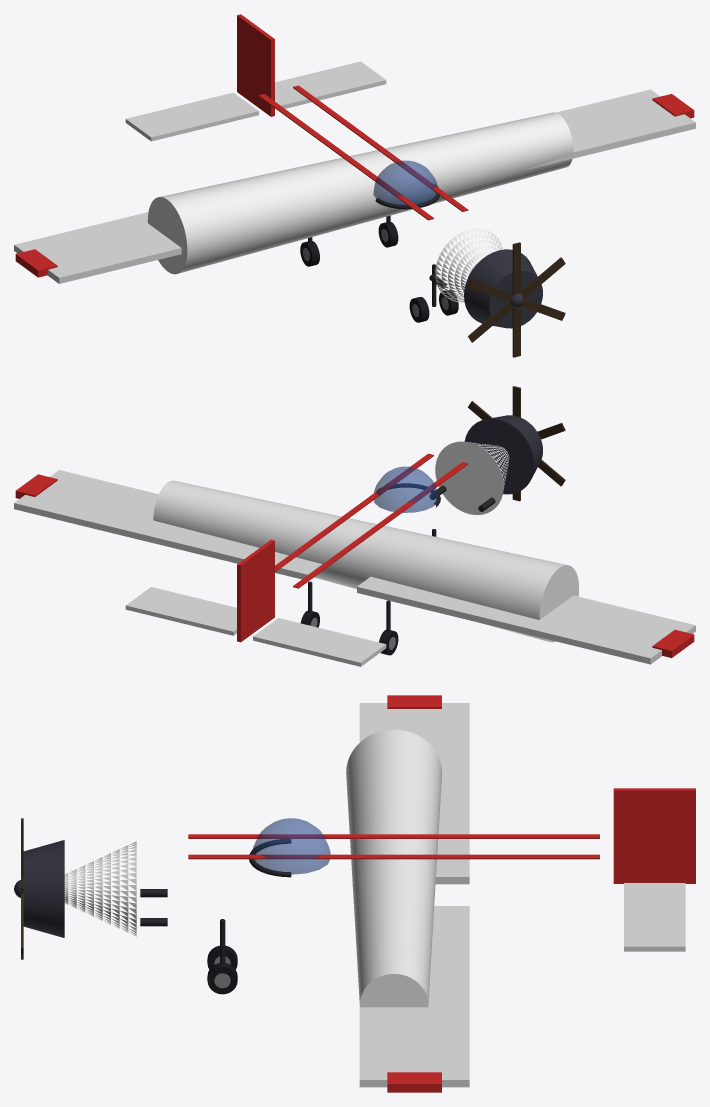
The model's file is vehicle_plane.glb.
3 views of the same model, one above another, from view 1: azimuth 30°, elevation 25°; view 2: azimuth 150°, elevation 25°; view 3: azimuth 270°, elevation 25° (orthographic). The views are drawn at different scales.
Visible parts, largest first — view 1: chassis; view 2: chassis; view 3: chassis, wheel_FR.
Boxes of the visible parts, x1=… form: chassis: x1=14, y1=14, x2=695, y2=357; chassis: x1=14, y1=386, x2=695, y2=666; chassis: x1=14, y1=695, x2=695, y2=1092; wheel_FR: x1=207, y1=962, x2=237, y2=994.
Size of the model in its own units: 13.4 by 3.12 by 9.94.
